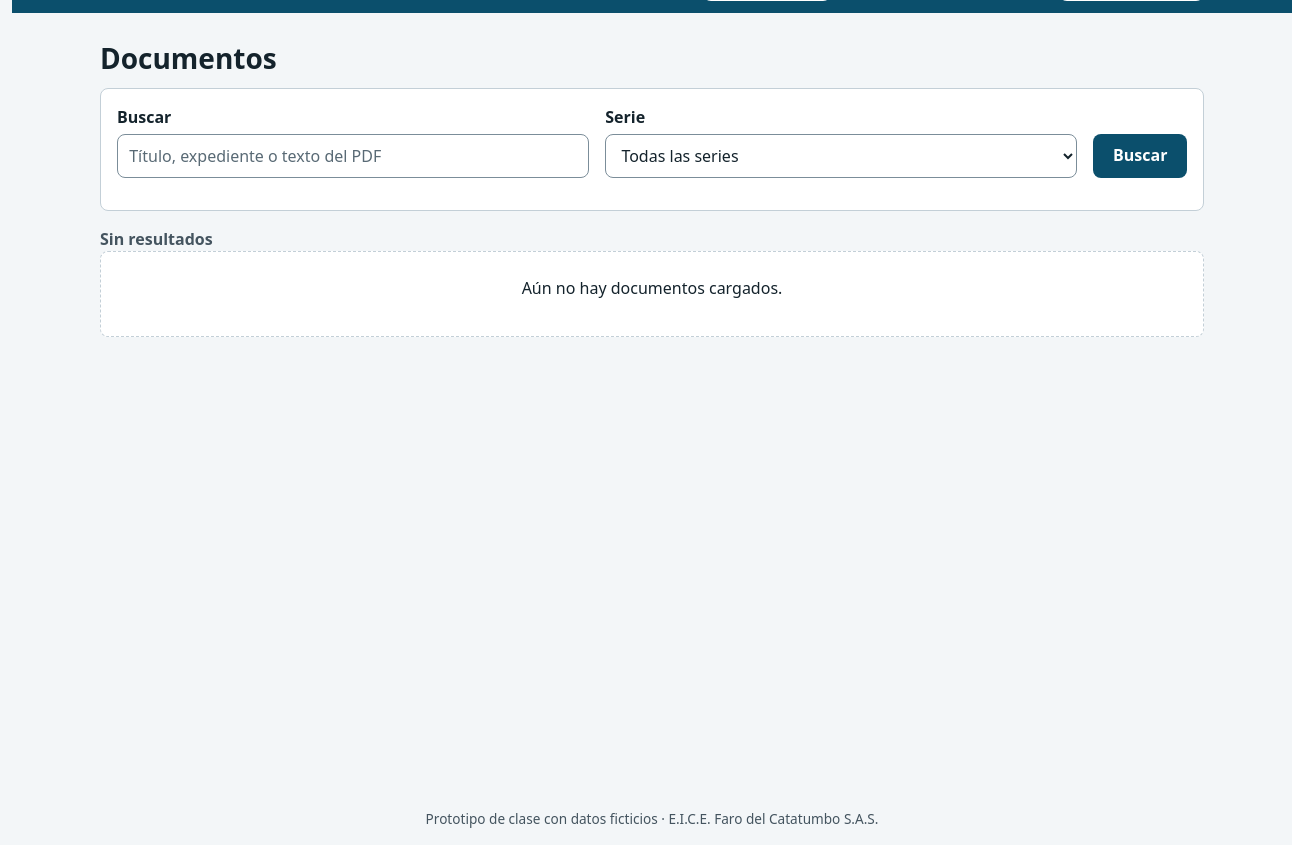
listado de documentos › búsqueda › al buscar pide q y la página 1, y lo deja en la URL
Expected: the text "Sin resultados" is shown, [100,228,213,250]
Step 1. Type "interventoria" into the search field labelled "Buscar" → (353, 156), box [117,134,589,178]
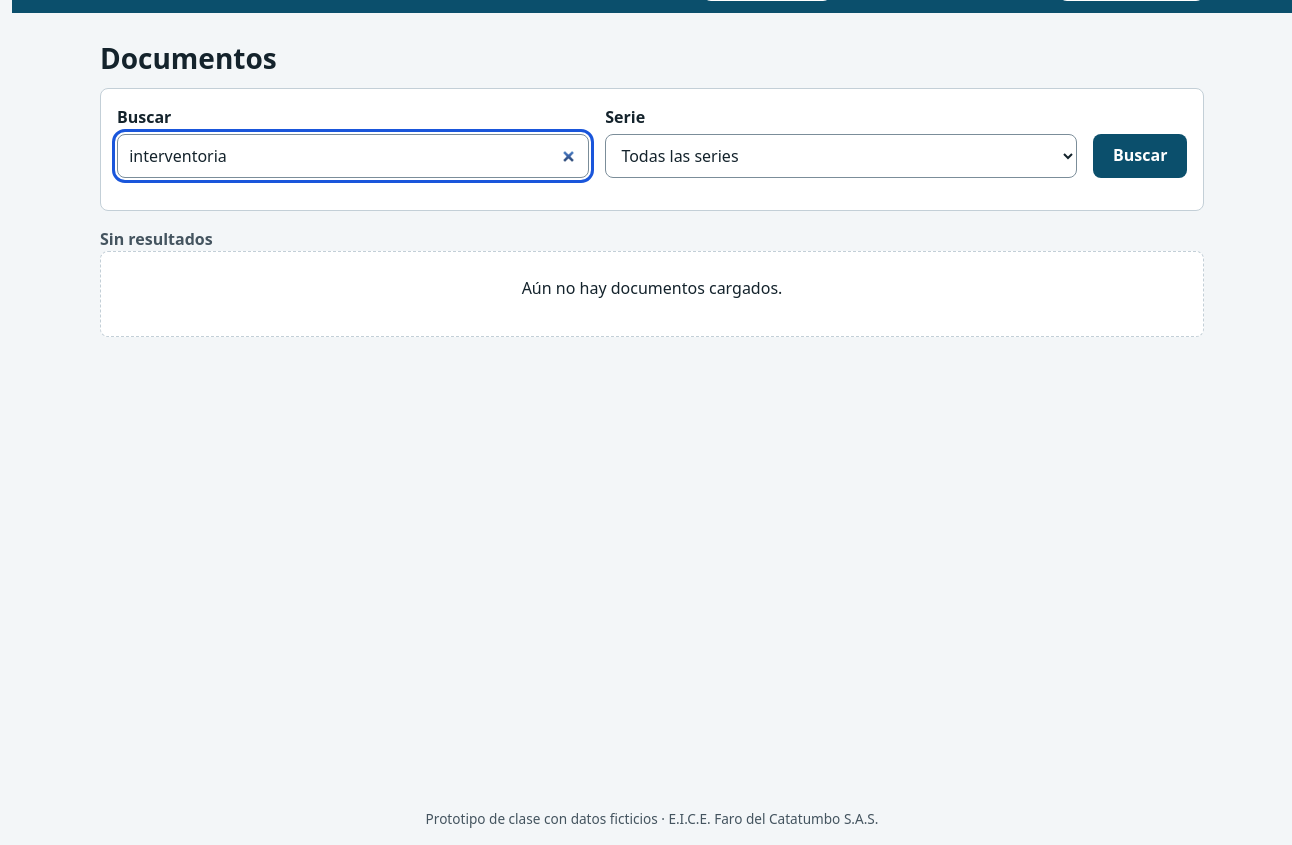
Step 2. Click the button "Buscar" → (1140, 156), box [1093,134,1187,178]
(page scrolled)
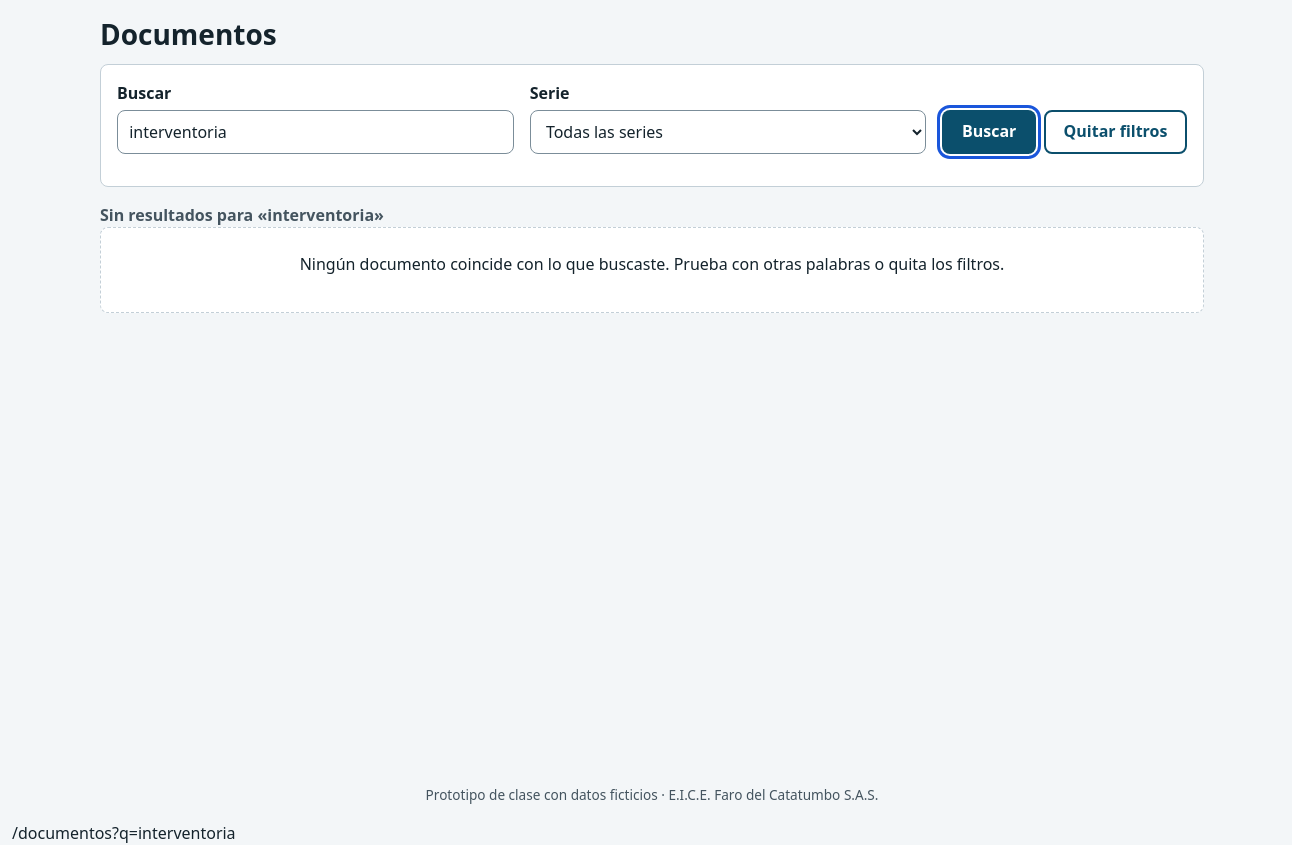
Now the text "Sin resultados para «interventoria»" is shown, box [100,204,384,226]
Now the text with test id "ubicacion" reads "/documentos?q=interventoria", box [12,822,236,844]
